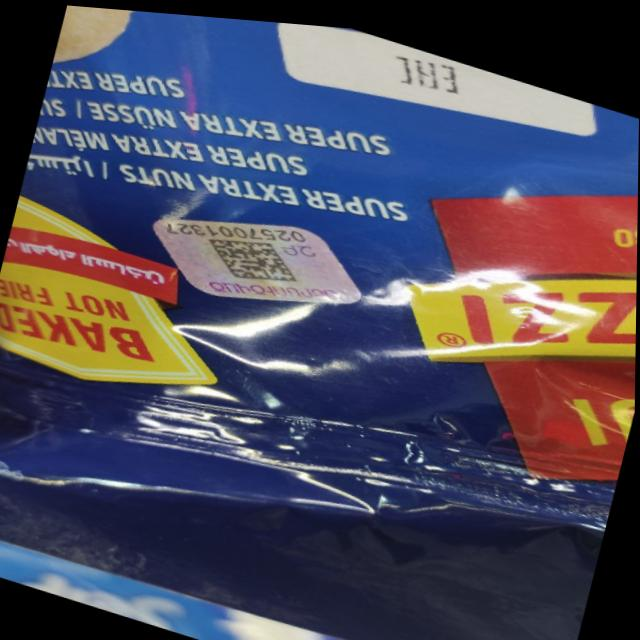datamatrix: (199, 218, 307, 291)
